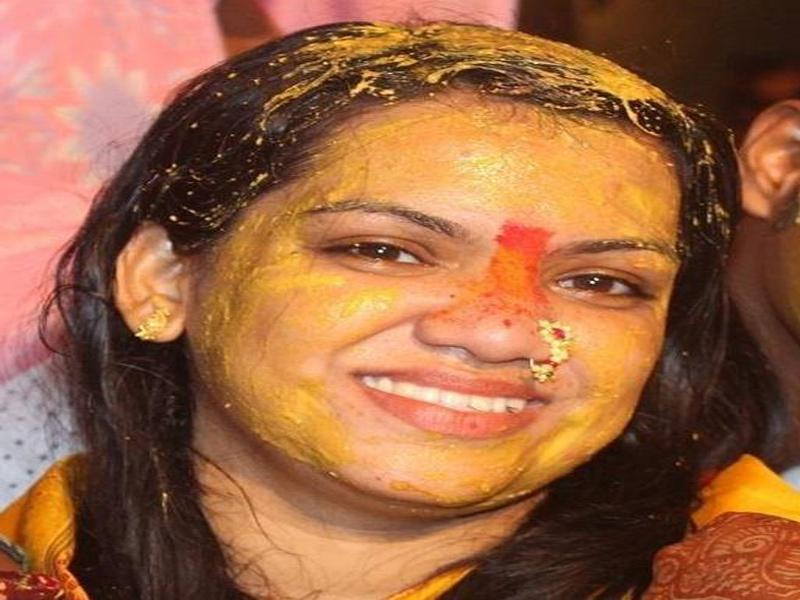without_mask: (210, 129, 680, 510)
